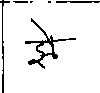e_matra: (31, 17, 53, 40)
